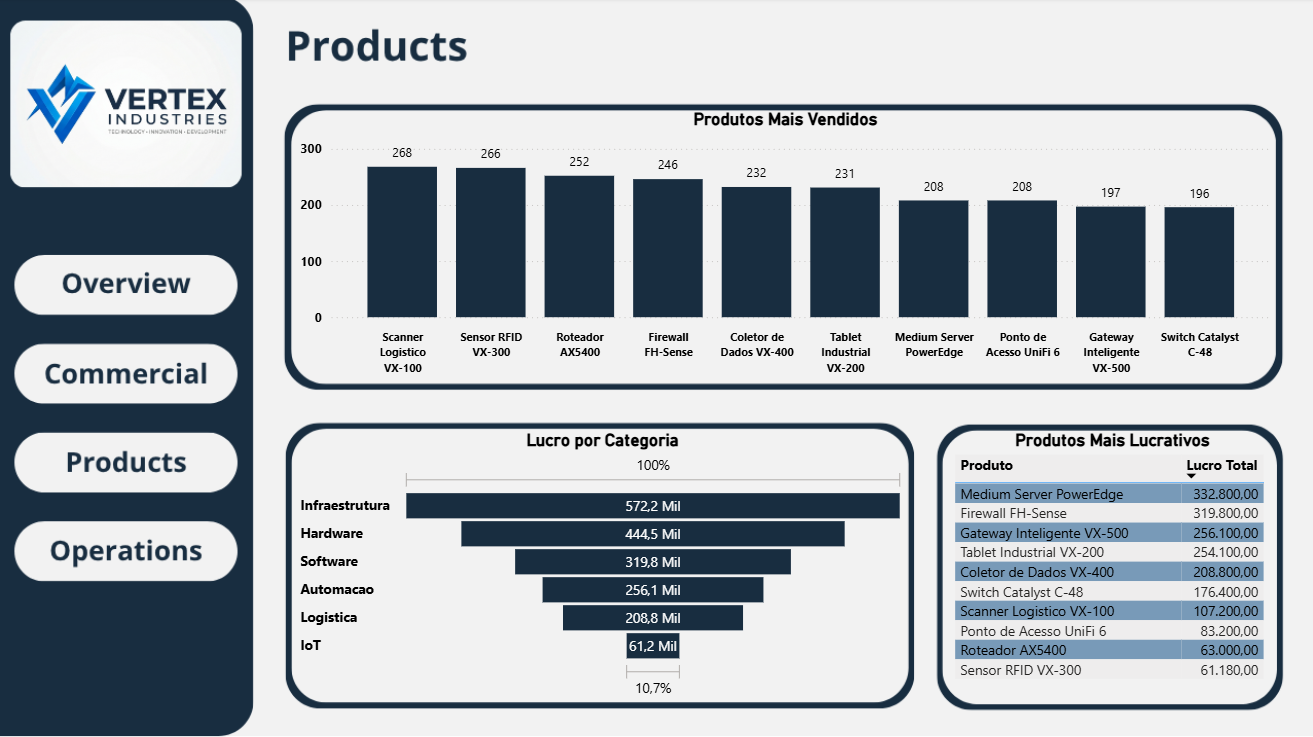

The dashboard page shown, as its layout file describes it:
{"tool":"powerbi","page":{"name":"Products","canvas":[1280,720],"ordinal":2},"visuals":[{"type":"columnChart","title":"Produtos Mais Vendidos","fields":{"Category":["vertex_industries vw_performance_produtos.nome_produto"],"Y":["Sum(vertex_industries vw_performance_produtos.quantidade_vendida)"]},"box":[287.9,108,954.2,266.5],"z":0},{"type":"tableEx","title":"Produtos Mais Lucrativos","fields":{"Values":["vertex_industries vw_performance_produtos.nome_produto","vertex_industries vw_performance_produtos.lucro_total"]},"box":[924,420.2,318.1,280.1],"z":1000},{"type":"funnel","title":"Lucro por Categoria","fields":{"Category":["vertex_industries vw_performance_produtos.categoria"],"Y":["Sum(vertex_industries vw_performance_produtos.lucro_total)"]},"box":[287.9,420.2,598.2,264.6],"z":2000},{"type":"actionButton","box":[22.4,250.9,201.3,56.4],"z":2001},{"type":"actionButton","box":[22.4,336.5,201.3,58.4],"z":2002},{"type":"actionButton","box":[22.4,509.7,201.3,56.4],"z":2003}]}

Visuals, with their boxes in screenshot pixels (x1, y1, x2, y2), scaled from the page's 1280x720 canvas onto the 1313x737 screenshot:
"Produtos Mais Vendidos" columnChart: l=295, t=111, r=1274, b=383
"Produtos Mais Lucrativos" tableEx: l=948, t=430, r=1274, b=717
"Lucro por Categoria" funnel: l=295, t=430, r=909, b=701
actionButton: l=23, t=257, r=229, b=315
actionButton: l=23, t=344, r=229, b=404
actionButton: l=23, t=522, r=229, b=579
